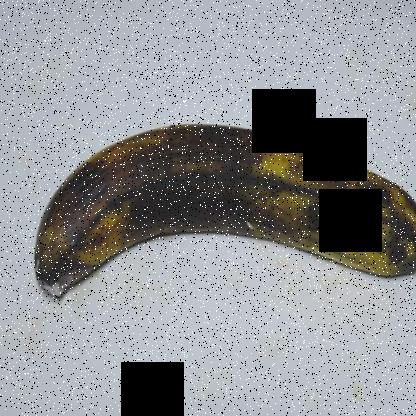overripe: (21, 101, 415, 354)
